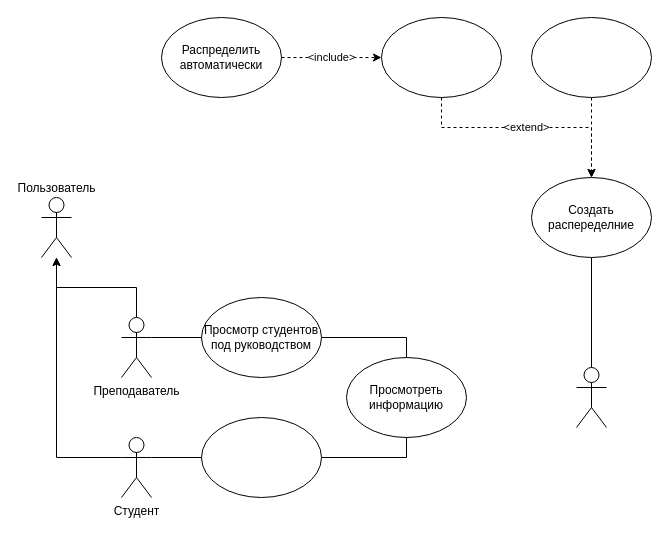
Some shapes in this 669 by 536 pixel diagram are drawn without their labels. Each missing label, with the box of its shape:
Заполнить информацию о студентах/преподавателях: (530, 16, 652, 98)
Модератор: (576, 366, 606, 428)
Просмотр преподавателя: (200, 416, 322, 498)
Распределить студентов по преподавателям: (380, 16, 502, 98)
